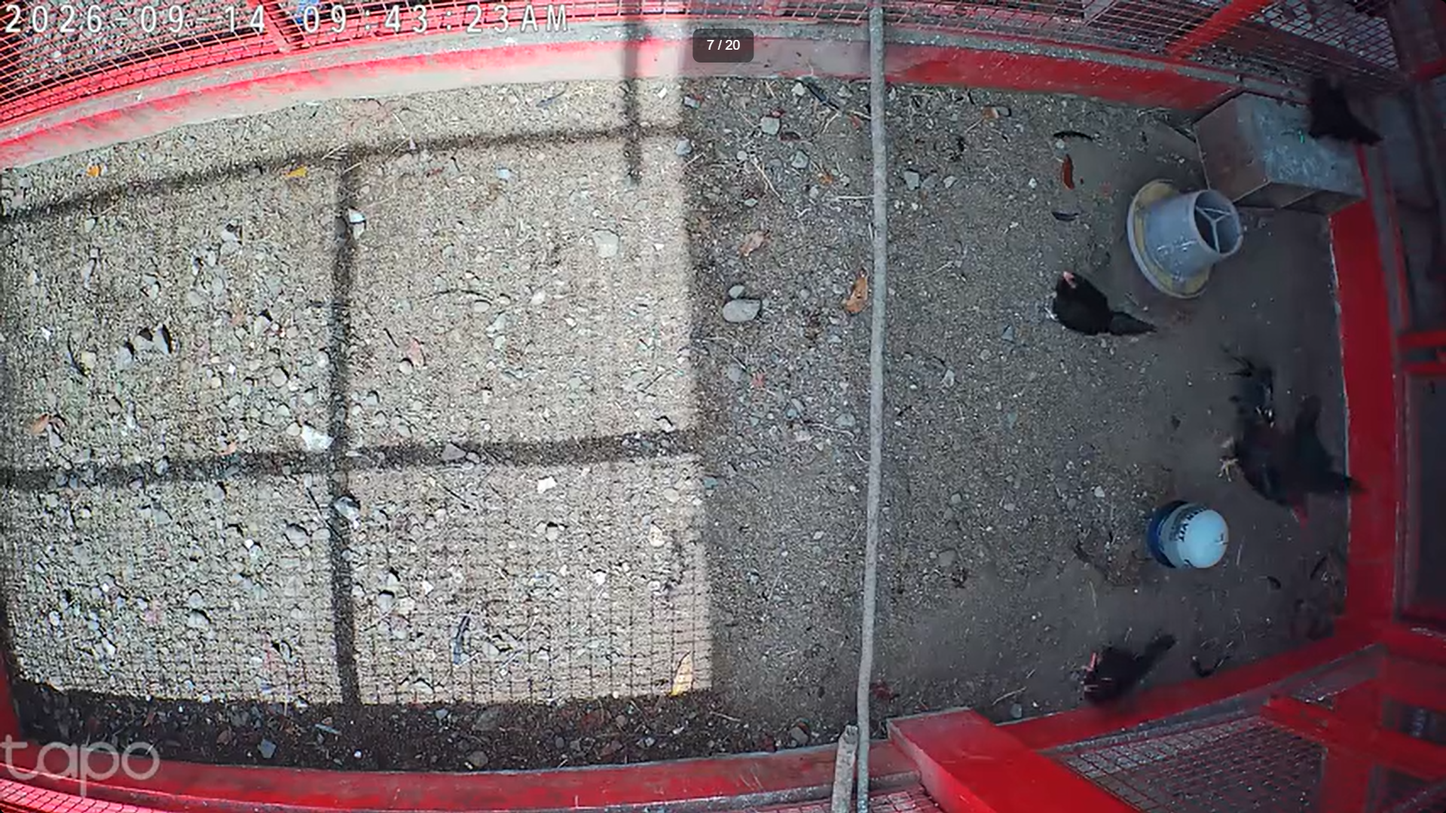Chicken: (1040, 268, 1160, 343), (1077, 630, 1180, 710)
